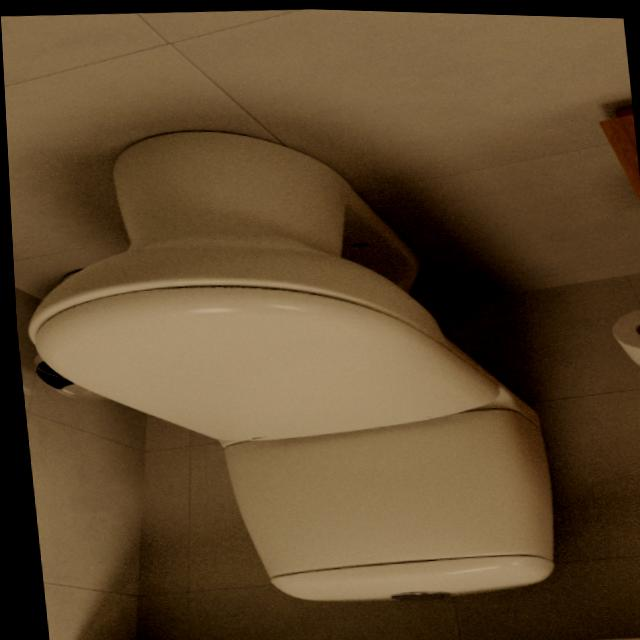toilet: (4, 109, 559, 622)
